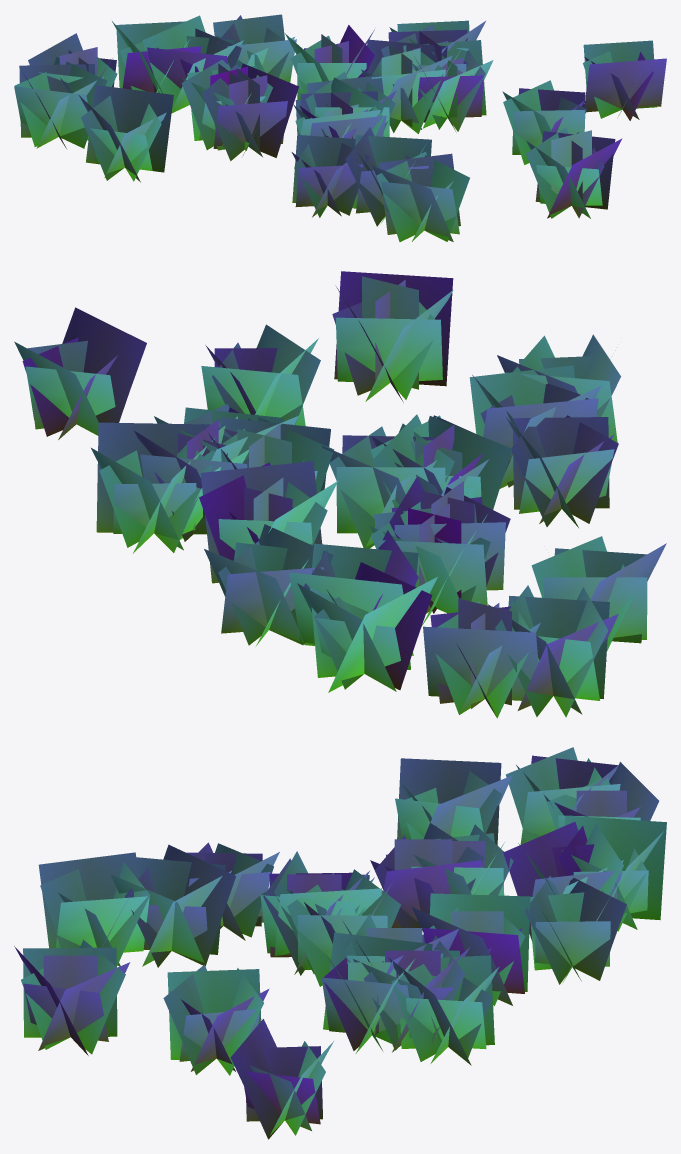
The model's file is water_hyacinth.glb.
3 views of the same model, one above another, from view 1: azimuth 30°, elevation 25°; view 2: azimuth 150°, elevation 25°; view 3: azimuth 270°, elevation 25° (orthographic). The views are drawn at different scales.
Visible parts, largest first — view 1: water_hyacinth_leaves; view 2: water_hyacinth_leaves; view 3: water_hyacinth_leaves.
Part boxes in pixels (x1,y1,x2,y2): water_hyacinth_leaves: (14, 14, 666, 241); water_hyacinth_leaves: (14, 271, 666, 718); water_hyacinth_leaves: (14, 747, 666, 1139).
Size of the model in its own units: 2.04 by 0.2598 by 1.75.
